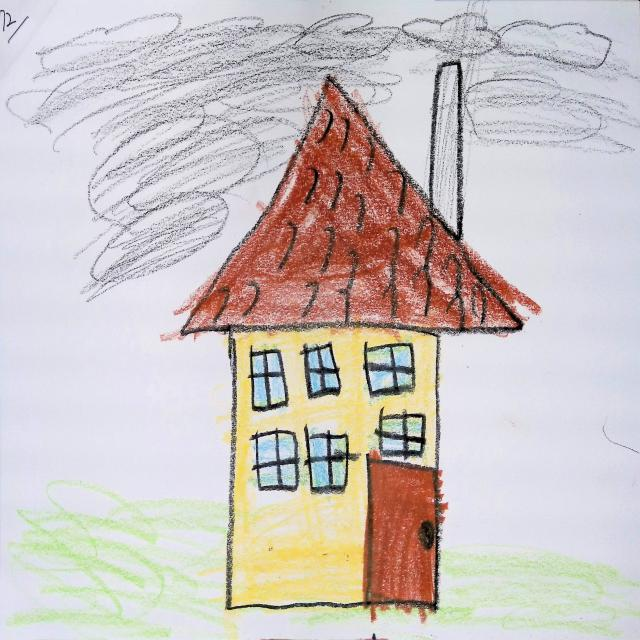chimney: (431, 61, 464, 239)
door: (366, 452, 439, 607)
house: (182, 63, 539, 609)
roof: (182, 77, 540, 335)
wall: (232, 324, 437, 610)
window: (253, 430, 299, 491), (306, 427, 348, 492), (365, 344, 415, 396), (376, 410, 427, 460), (251, 350, 288, 412), (304, 344, 341, 398)
